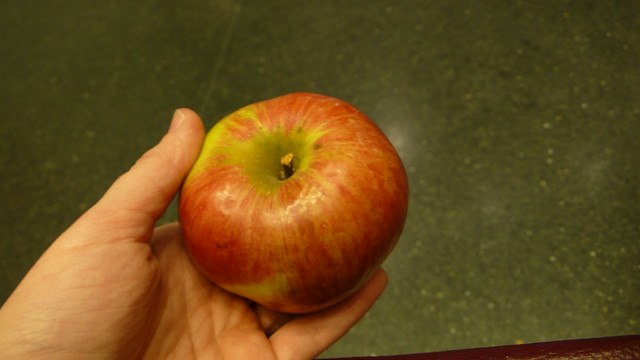apple: (174, 89, 413, 318)
